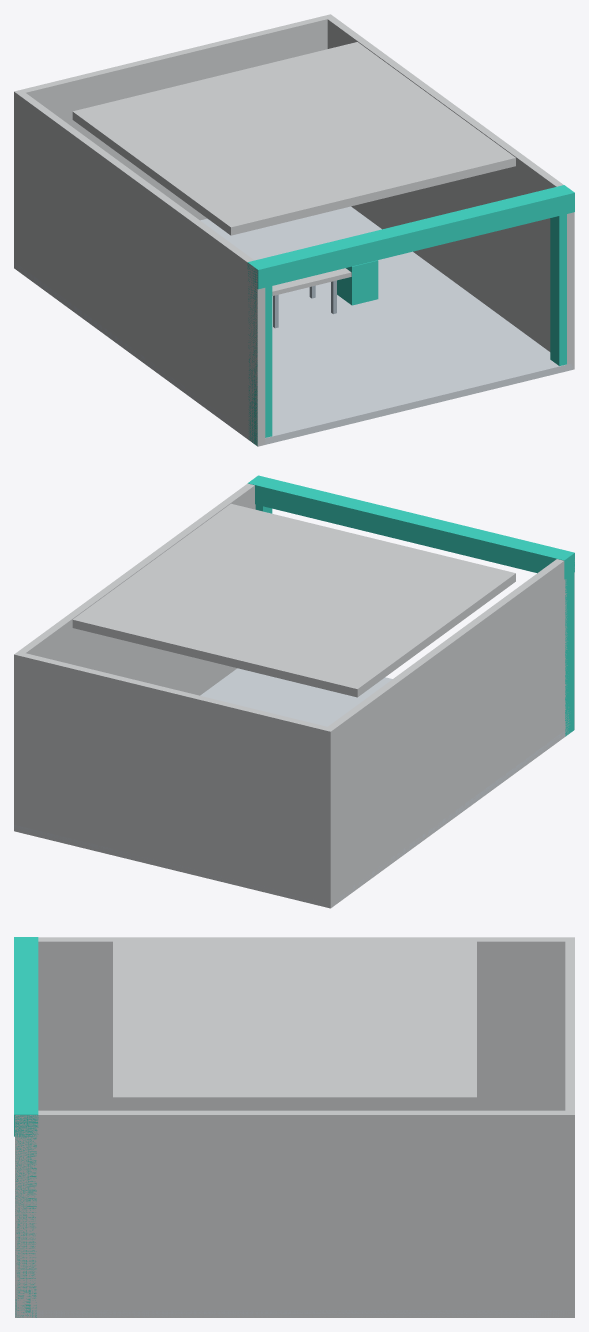
3 renders of one model, top to bottom at view 1: azimuth 30°, elevation 25°; view 2: azimuth 150°, elevation 25°; view 3: azimuth 270°, elevation 25°, orthographic. The views are drawn at different scales.
Parts seen in each view (by area): view 1: Exhibition Booth Concept; view 2: Exhibition Booth Concept; view 3: Exhibition Booth Concept.
Part boxes in pixels (x1,y1,x2,y2): Exhibition Booth Concept: [14, 14, 574, 446]; Exhibition Booth Concept: [14, 475, 574, 908]; Exhibition Booth Concept: [14, 937, 574, 1317].
Size of the model in its own units: 6 by 3.34 by 8.01.
